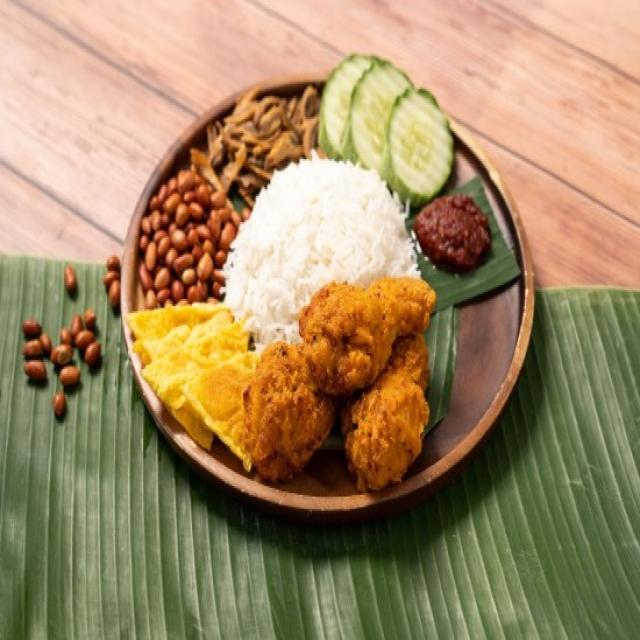Bones: (222, 150, 419, 350)
Chicken: (233, 276, 434, 488)
Egg: (129, 303, 258, 470)
Green veg: (318, 54, 453, 205)
